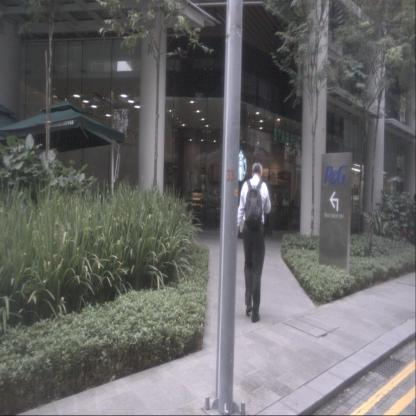human-pedestrian-adult: (234, 162, 271, 323), (282, 192, 290, 219)
